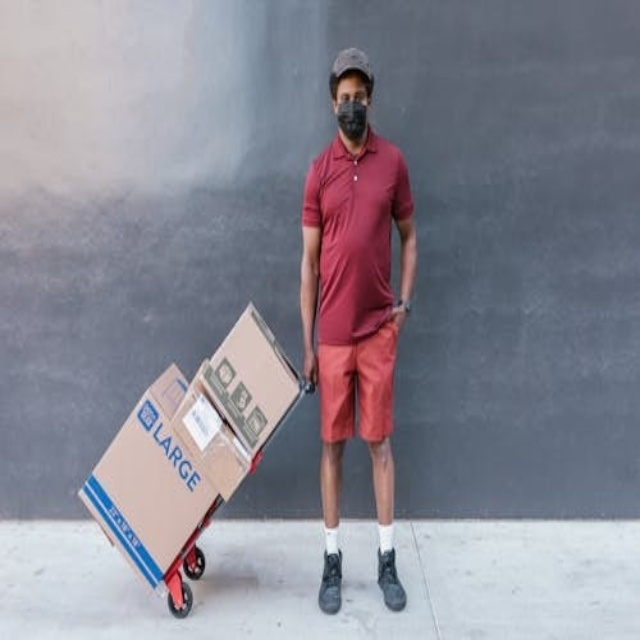Mascara: (337, 100, 367, 138)
Sin_gafas: (337, 85, 369, 102)
